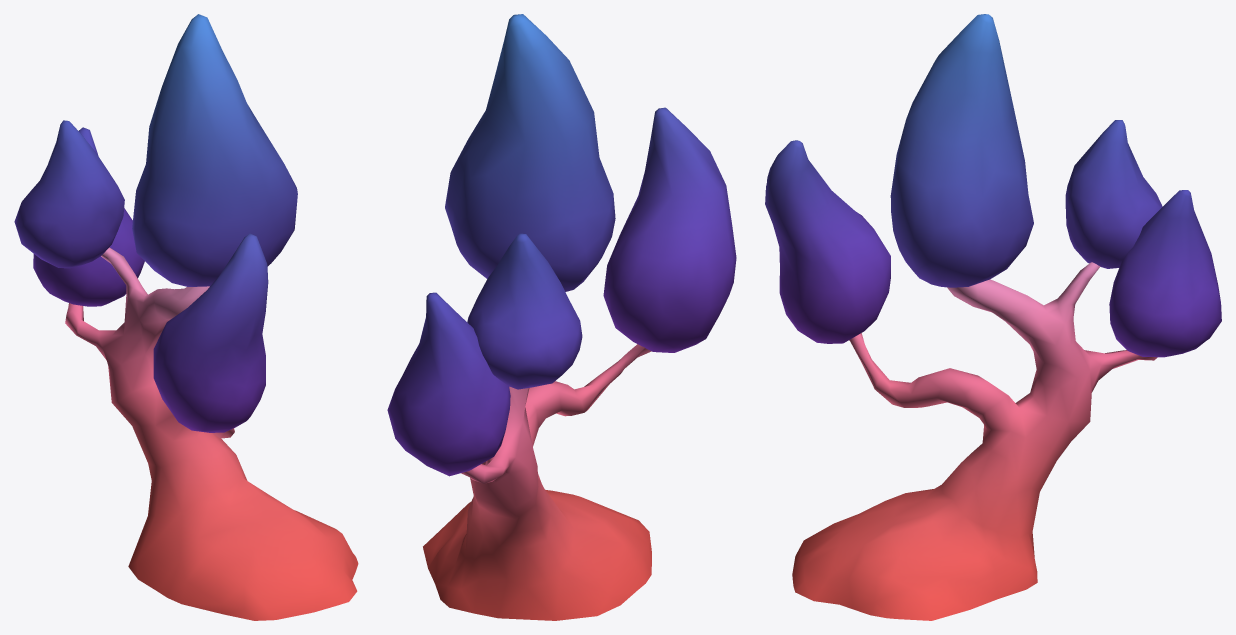
The model's file is fabulous_mushroom_002.glb.
3 views of the same model, side by side, from view 1: azimuth 30°, elevation 25°; view 2: azimuth 150°, elevation 25°; view 3: azimuth 270°, elevation 25° (orthographic). The views are drawn at different scales.
Visible parts, largest first — view 1: fabulous_mushroom_002; view 2: fabulous_mushroom_002; view 3: fabulous_mushroom_002.
Part boxes in pixels (<box>): fabulous_mushroom_002: <box>14,14,358,620</box>; fabulous_mushroom_002: <box>387,14,736,620</box>; fabulous_mushroom_002: <box>765,14,1221,620</box>.
Bounding box in the file's own units: 4.35 × 9.75 × 7.34.
Materials: 1 (1 with a texture image).
